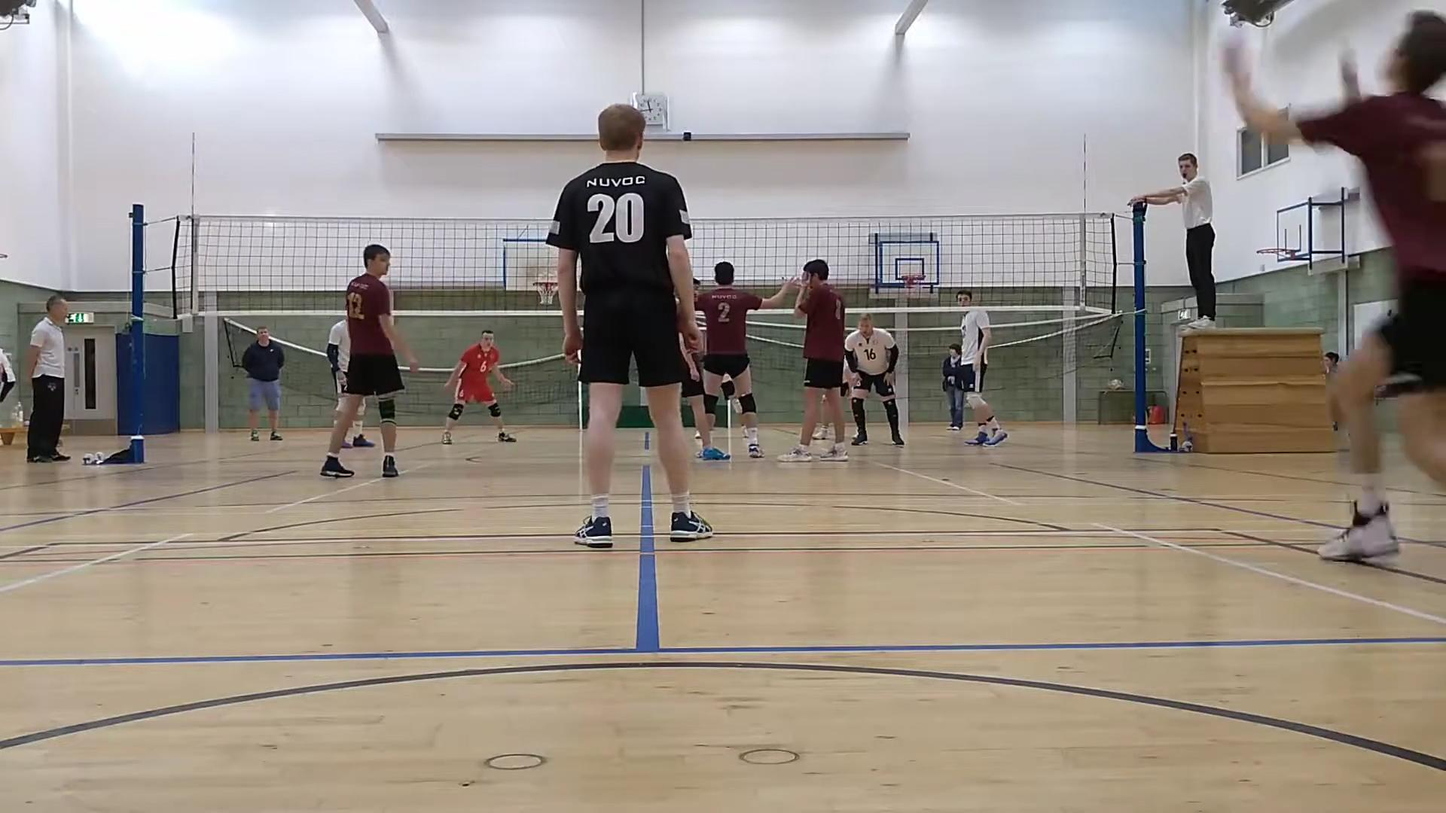Player: (548, 105, 712, 547), (321, 244, 419, 477), (697, 262, 792, 458), (779, 259, 847, 461), (441, 330, 514, 444), (956, 289, 1008, 446), (844, 313, 904, 445), (680, 335, 730, 461), (326, 318, 349, 413), (720, 376, 740, 414), (839, 366, 856, 397)
Serve: (1218, 13, 1446, 564)
